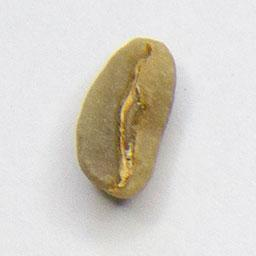longberry: (72, 34, 180, 204)
